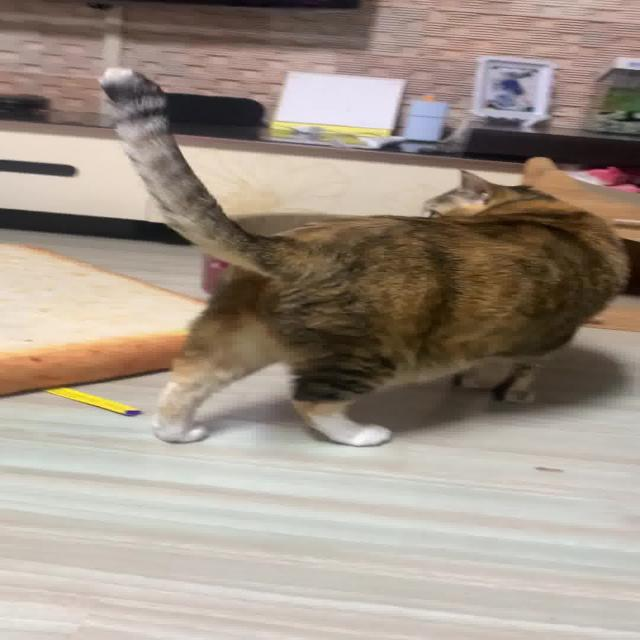cat: (93, 63, 632, 448)
